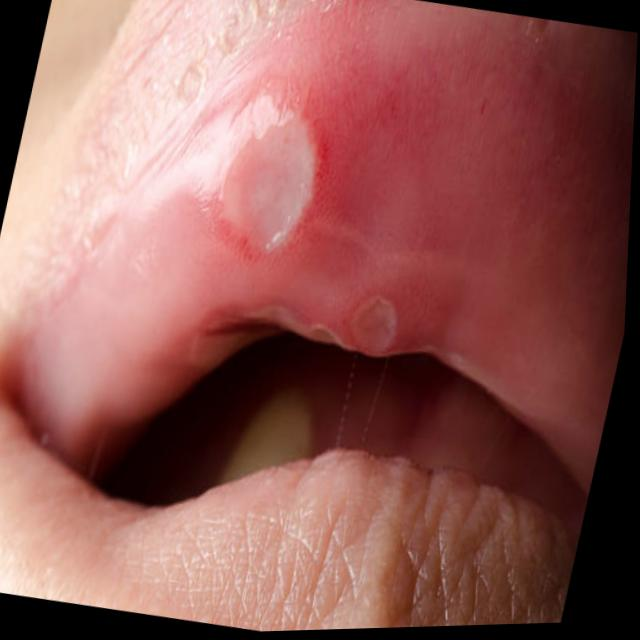ulcer: (221, 113, 313, 250), (346, 296, 395, 354)
